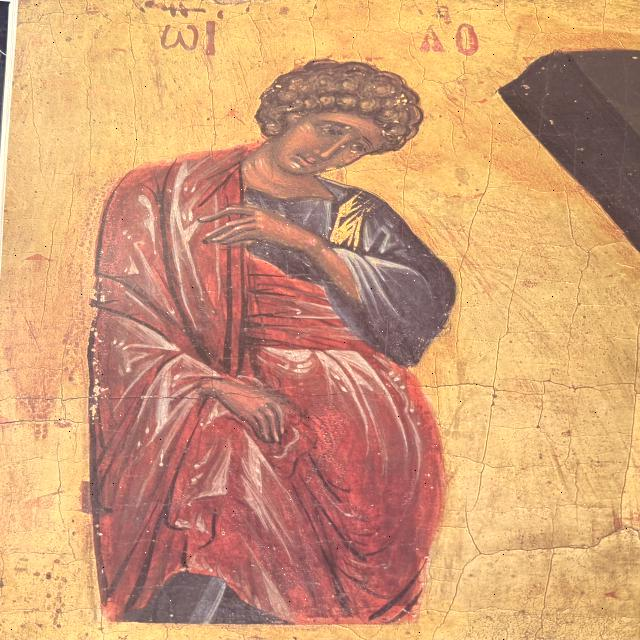saint: (77, 39, 480, 623)
